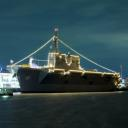Portanaves: (7, 26, 123, 95)
